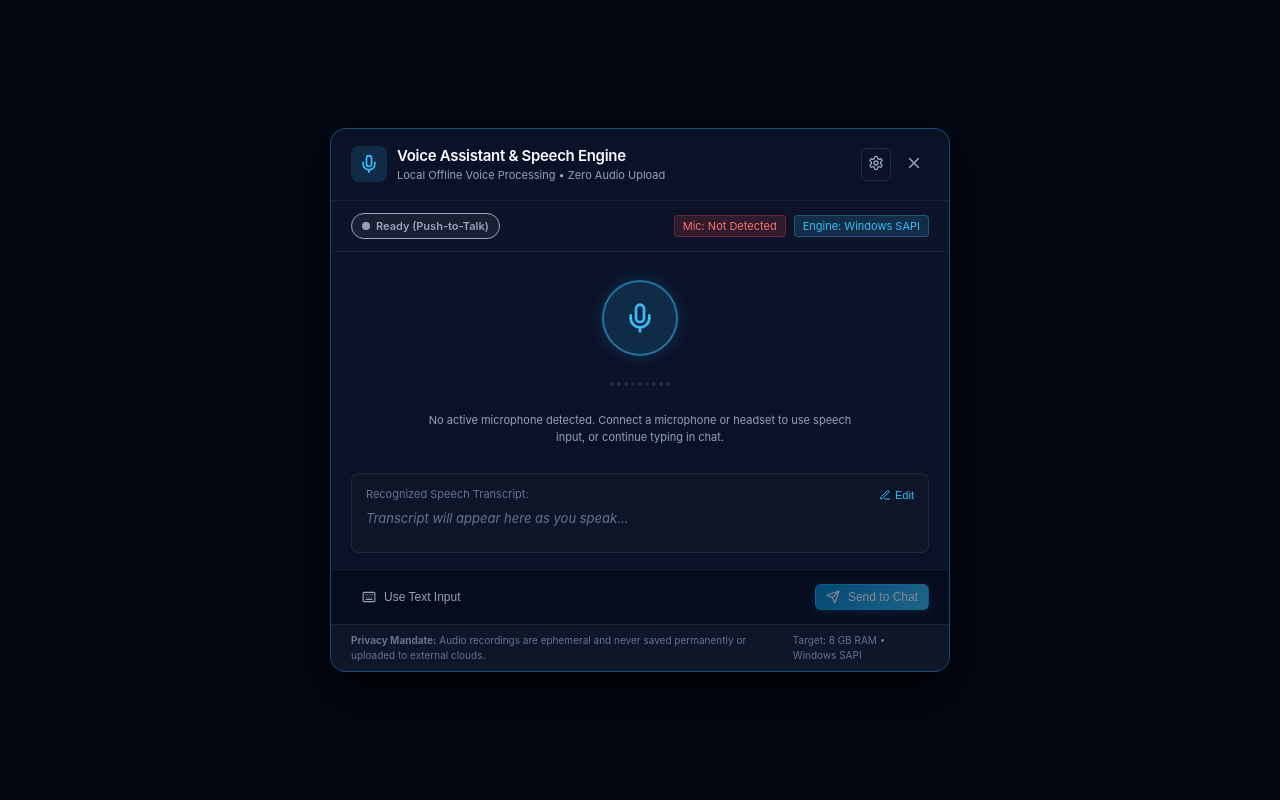
Test: Phase 9 — Native Windows Voice Conversation Engine Suite › 2. Real Hardware Probing & Graceful Error Handling › displays error badge when microphone permission is denied by Windows
The width and height of the screenshot is (1280, 800).
Click the button titled "Start Recording". click: (640, 318)
box: [602, 280, 678, 356]
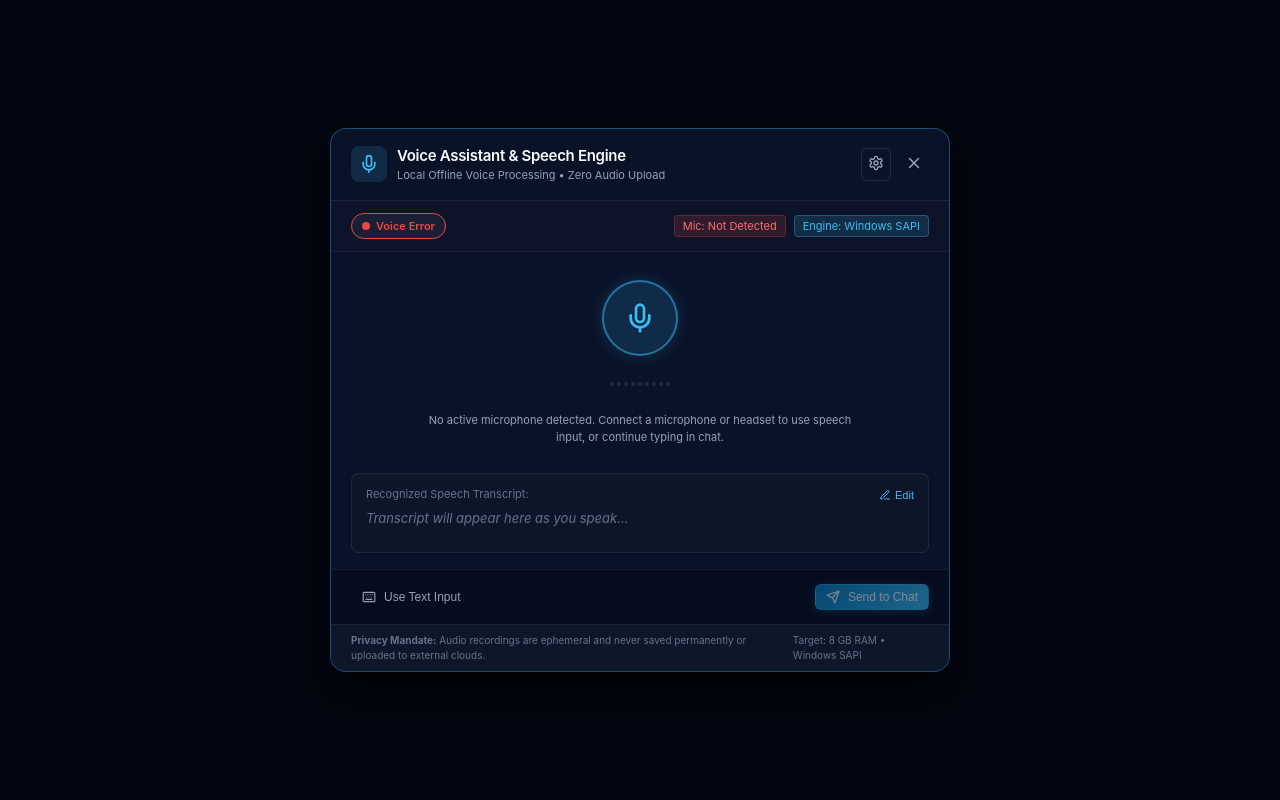
Expected: the text "Voice Error" is shown, [351, 213, 446, 239]
